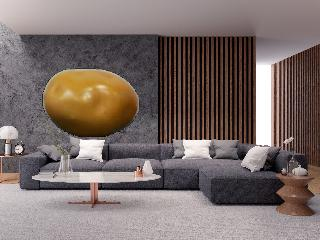potato: (40, 65, 142, 142)
